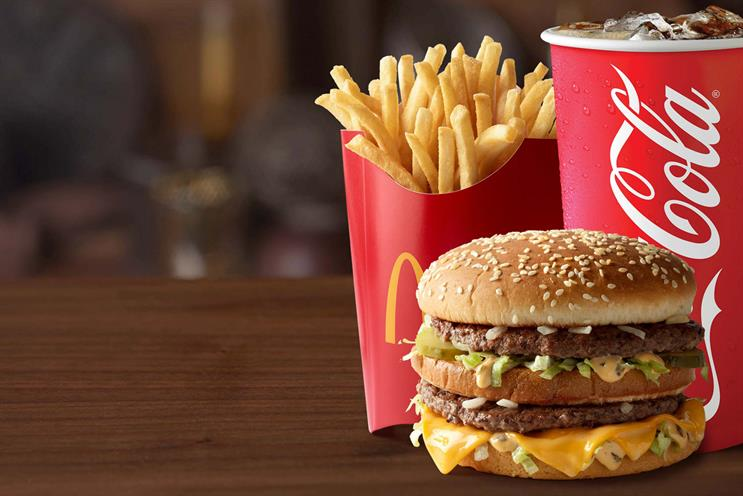mcdonalds: (376, 251, 444, 347), (376, 254, 441, 347), (384, 251, 444, 345)
